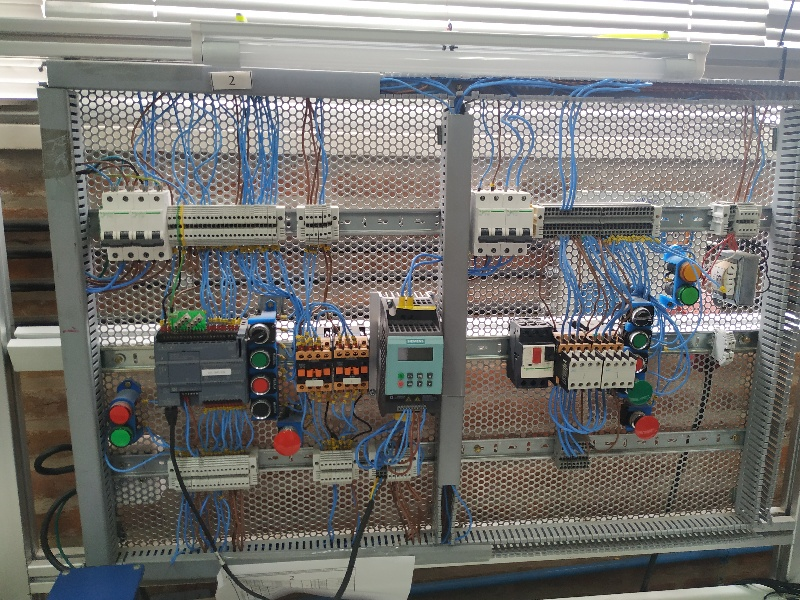Tablero 2: (65, 73, 800, 542)
